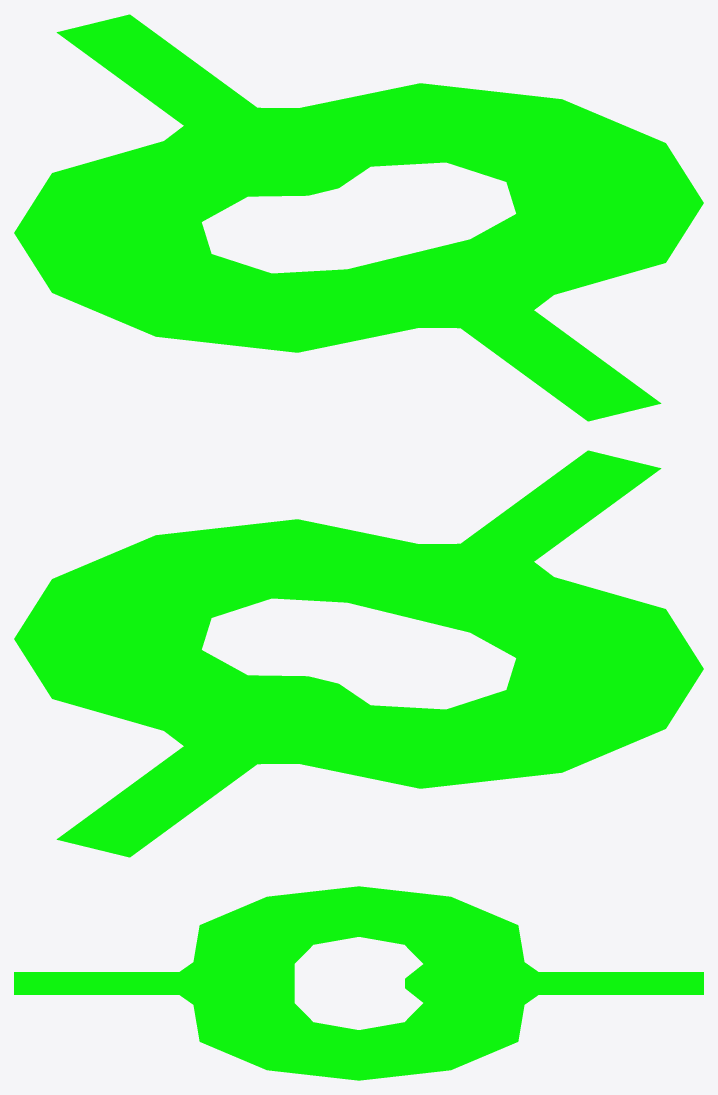
Rendered from s06b_ib1-floor.glb.
3 renders of one model, top to bottom at view 1: azimuth 30°, elevation 25°; view 2: azimuth 150°, elevation 25°; view 3: azimuth 270°, elevation 25°, orthographic. The views are drawn at different scales.
Parts seen in each view (by area): view 1: collision_floor-colonly; view 2: collision_floor-colonly; view 3: collision_floor-colonly.
Part boxes in pixels (<box>): collision_floor-colonly: <box>14,14,703,421</box>; collision_floor-colonly: <box>14,450,703,857</box>; collision_floor-colonly: <box>14,886,703,1080</box>.
Size of the model in its own units: 50 by 0 by 75.
